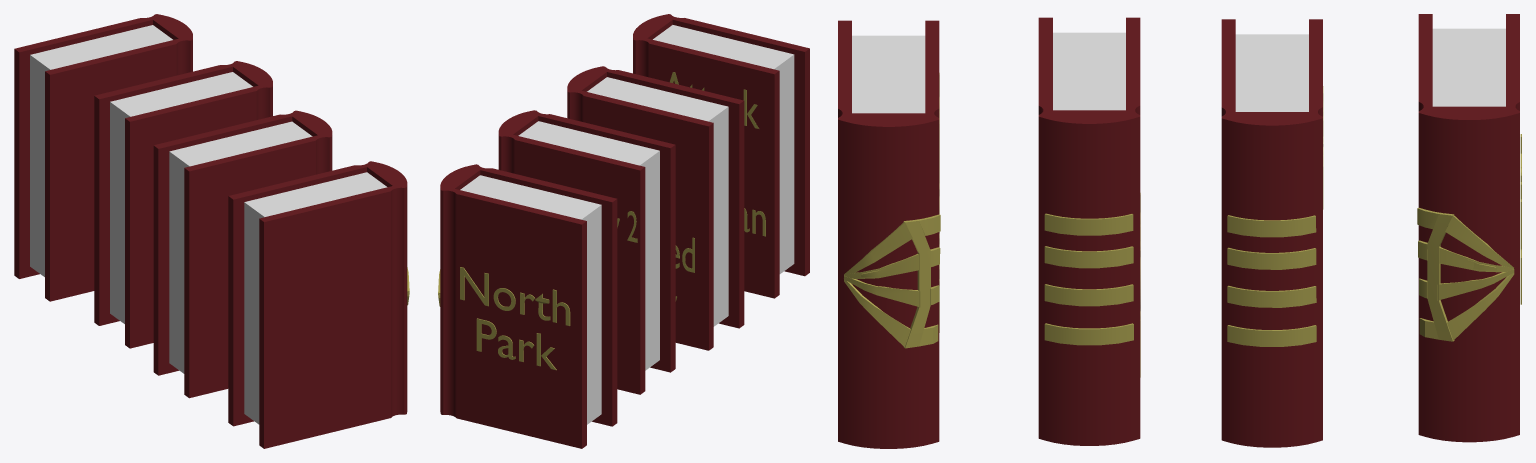
The model's file is Book2.fbx.
3 renders of one model, left to right at view 1: azimuth 30°, elevation 25°; view 2: azimuth 150°, elevation 25°; view 3: azimuth 270°, elevation 25°, orthographic. The views are drawn at different scales.
Parts seen in each view (by area): view 1: Cube.004, Cube.002, Cube.001, Cube.005; view 2: Cube.002, Cube.004, Cube.001, Cube.005; view 3: Cube.001, Cube.002, Cube.005, Cube.004.
Boxes of the visible parts, x1,y1,x2,y2 form: Cube.004: [228, 161, 409, 448]; Cube.002: [14, 14, 192, 301]; Cube.001: [153, 110, 332, 398]; Cube.005: [94, 61, 272, 348]; Cube.002: [438, 164, 617, 448]; Cube.004: [633, 14, 809, 298]; Cube.001: [567, 66, 744, 350]; Cube.005: [498, 110, 675, 394]; Cube.001: [1038, 17, 1140, 445]; Cube.002: [1417, 14, 1521, 442]; Cube.005: [1221, 19, 1323, 447]; Cube.004: [838, 20, 940, 448].
Size of the model in its own units: 232 by 306 by 585.
